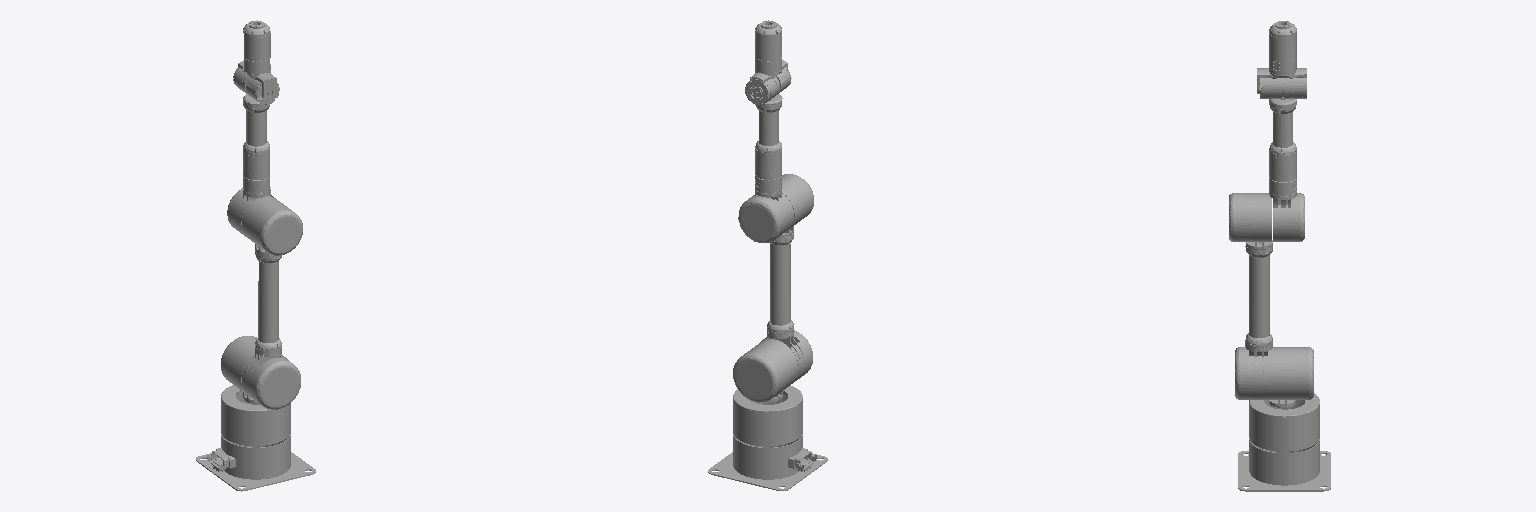
URDF robot description (prototype4):
<?xml version="1.0" ?>
<!-- =================================================================================== -->
<!-- |    This document was autogenerated by xacro from fourbythree_urdf_template.urdf.xacro | -->
<!-- |    EDITING THIS FILE BY HAND IS NOT RECOMMENDED                                 | -->
<!-- =================================================================================== -->
<robot name="prototype4" xmlns:xacro="http://ros.org/wiki/xacro">
  
  
  <material name="Blue">
    <color rgba="0 0.0 1.0 1.0"/>
  </material>
  <material name="Grey">
    <color rgba="0.5 0.5 0.5 1.0"/>
  </material>
  <material name="LightGrey">
    <color rgba="0.7 0.7 0.7 1.0"/>
  </material>
  <material name="DarkGrey">
    <color rgba="0.3 0.3 0.3 1.0"/>
  </material>
  
  
  <!-- RADIANT -->
  <!-- Nm -->
  <!-- PI/2 = 1.5708-->
  <!-- PI   = 3.1416-->
  
  
  <link name="base">
    <visual>
      <origin xyz="0 0 0" rpy="0 0 -3.1416" />
      <geometry>
       <mesh filename="package://fourbythree_description/meshes/prototype4_base.stl"/>
      </geometry>
      <material name="LightGrey">
      </material>
    </visual>
  </link>
  
  
  
  <joint name="joint_1" type="revolute">
    <parent link="base"/>
    <child link="link1_rotZ"/>
    <origin rpy="0.0 0 0.0" xyz="0 0 0.425"/>
    <axis xyz="0 0 1"/>
    <limit effort="250" lower="-2.8" upper="2.8" velocity="0.5"/>
  </joint>
  <joint name="joint_1_fixed" type="fixed">
    <parent link="link1_rotZ"/>
    <child link="link1"/>
    <origin rpy="1.57079632679 0.0 0" xyz="0.0 0 0"/>
  </joint>
  <link name="link1_rotZ">
    <visual>
      <origin xyz="0 -0.03 -0.02" rpy="0 0 -1.5708 " />
      <geometry>
        <mesh filename="package://fourbythree_description/meshes/prototype4_link1.stl"/>
      </geometry>
      <material name="LightGrey">
      </material>
    </visual>
  </link>
  <link name="link1"/>
  
  
  
  <joint name="joint_2" type="revolute">
    <parent link="link1"/>
    <child link="link2_rotZ"/>
    <origin rpy="0.0 0 1.57079632679" xyz="0 0 0.0"/>
    <axis xyz="0 0 1"/>
    <limit effort="250" lower="-1.8" upper="1.8" velocity="0.5"/>
  </joint>
  <joint name="joint_2_fixed" type="fixed">
    <parent link="link2_rotZ"/>
    <child link="link2"/>
    <origin rpy="0.0 0.0 0" xyz="0.6569 0 0"/>
  </joint>
  <link name="link2_rotZ">
    <visual>
      <origin xyz="0 0 0.09 " rpy=" 0 -1.572 3.1416" />
      <geometry>
        <mesh filename="package://fourbythree_description/meshes/prototype4_link2.stl"/>
      </geometry>
      <material name="LightGrey">
      </material>
    </visual>
  </link>
  <link name="link2"/>
  

  
  <joint name="joint_3" type="revolute">
    <parent link="link2"/>
    <child link="link3_rotZ"/>
    <origin rpy="0.0 0 -1.57079632679" xyz="0 0 0.006"/>
    <axis xyz="0 0 1"/>
    <limit effort="90" lower="-2.5" upper="2.5" velocity="0.5"/>
  </joint>
  <joint name="joint_3_fixed" type="fixed">
    <parent link="link3_rotZ"/>
    <child link="link3"/>
    <origin rpy="-1.57079632679 0.0 0" xyz="0.0 0 0"/>
  </joint>
  <link name="link3_rotZ">
    <visual>
      <origin xyz=" 0 0 0 " rpy=" 0 -1.5708 -1.5708" />
      <geometry>
        <mesh filename="package://fourbythree_description/meshes/prototype4_link3.stl"/>
      </geometry>
      <material name="LightGrey">
      </material>
    </visual>
  </link>
  <link name="link3"/>
  
  
  
  <joint name="joint_4" type="revolute">
    <parent link="link3"/>
    <child link="link4_rotZ"/>
    <origin rpy="0.0 0 0.0" xyz="0 0 0.56345"/>
    <axis xyz="0 0 1"/>
    <limit effort="40" lower="-2.8" upper="2.8" velocity="0.5"/>
  </joint>
  <joint name="joint_4_fixed" type="fixed">
    <parent link="link4_rotZ"/>
    <child link="link4"/>
    <origin rpy="1.57079632679 0.0 0" xyz="0.0 0 0"/>
  </joint>
  <link name="link4_rotZ">
    <visual>
      <origin xyz="0 0 -0.39" rpy="0 0 1.5708 " />
      <geometry>
        <mesh filename="package://fourbythree_description/meshes/prototype4_link4.stl"/>
      </geometry>
      <material name="LightGrey">
      </material>
    </visual>
  </link>
  <link name="link4"/>
  
  
  
  <joint name="joint_5" type="revolute">
    <parent link="link4"/>
    <child link="link5_rotZ"/>
    <origin rpy="0.0 0 0.0" xyz="0 0 0.0"/>
    <axis xyz="0 0 1"/>
    <limit effort="40" lower="-1.575" upper="1.575" velocity="0.5"/>
  </joint>
  <joint name="joint_5_fixed" type="fixed">
    <parent link="link5_rotZ"/>
    <child link="link5"/>
    <origin rpy="-1.57079632679 0.0 0" xyz="0.0 0 0"/>
  </joint>
  <link name="link5_rotZ">
    <visual>
      <origin xyz=" 0 0 -0.01" rpy="0 1.5708 1.5708 " />
      <geometry>
        <mesh filename="package://fourbythree_description/meshes/prototype4_link5.stl"/>
      </geometry>
      <material name="LightGrey">
      </material>
    </visual>
  </link>
  <link name="link5"/>
  
  
  
  <joint name="joint_6" type="revolute">
    <parent link="link5"/>
    <child link="flange_rotZ"/>
    <origin rpy="0.0 0 0.0" xyz="0 0 0.26055"/>
    <axis xyz="0 0 1"/>
    <limit effort="40" lower="-2.8" upper="2.8" velocity="0.5"/>
  </joint>
  <joint name="joint_6_fixed" type="fixed">
    <parent link="flange_rotZ"/>
    <child link="flange"/>
    <origin rpy="0.0 0.0 0" xyz="0.0 0 0"/>
  </joint>
  
  
  <link name="flange_rotZ">
    <visual>
      <origin xyz=" 0 0 0" rpy="0 0  0 " />
      <geometry>
        <mesh filename="package://fourbythree_description/meshes/prototype4_flange.stl"/>
      </geometry>
      <material name="LightGrey">
      </material>
    </visual>
  </link>
  <link name="flange"/>
  
  
</robot>

--- Facts derived from the render (not from the file) ---
3 views of the same robot in one strip: view 1: azimuth 30°, elevation 25°; view 2: azimuth 150°, elevation 25°; view 3: azimuth 270°, elevation 25° (orthographic).
Model prototype4 with 13 links and 12 joints (6 revolute, 6 fixed), rooted at base, posed all joints at 0.
Visible links, largest first — view 1: base, link2_rotZ, link1_rotZ, link4_rotZ, link5_rotZ, link3_rotZ; view 2: base, link2_rotZ, link1_rotZ, link4_rotZ, link5_rotZ; view 3: base, link2_rotZ, link1_rotZ, link4_rotZ, link5_rotZ, link3_rotZ.
Link boxes in pixels (left/top/right/bottom): base: left=196, top=385, right=315, bottom=491; link2_rotZ: left=227, top=188, right=302, bottom=376; link1_rotZ: left=221, top=336, right=300, bottom=409; link4_rotZ: left=235, top=68, right=279, bottom=180; link5_rotZ: left=233, top=31, right=276, bottom=100; link3_rotZ: left=235, top=176, right=270, bottom=236; base: left=708, top=385, right=827, bottom=490; link2_rotZ: left=738, top=174, right=813, bottom=358; link1_rotZ: left=733, top=330, right=812, bottom=402; link4_rotZ: left=752, top=67, right=791, bottom=179; link5_rotZ: left=745, top=33, right=787, bottom=104; base: left=1238, top=393, right=1330, bottom=491; link2_rotZ: left=1229, top=193, right=1304, bottom=371; link1_rotZ: left=1235, top=347, right=1313, bottom=407; link4_rotZ: left=1260, top=78, right=1303, bottom=181; link5_rotZ: left=1257, top=33, right=1306, bottom=98; link3_rotZ: left=1269, top=177, right=1296, bottom=207.
Size in the robot's own frame: 0.3719 by 0.3964 by 1.91 metres.
Meshes: 7 distinct files referenced, 7 mesh visuals loaded (7 binary STL).